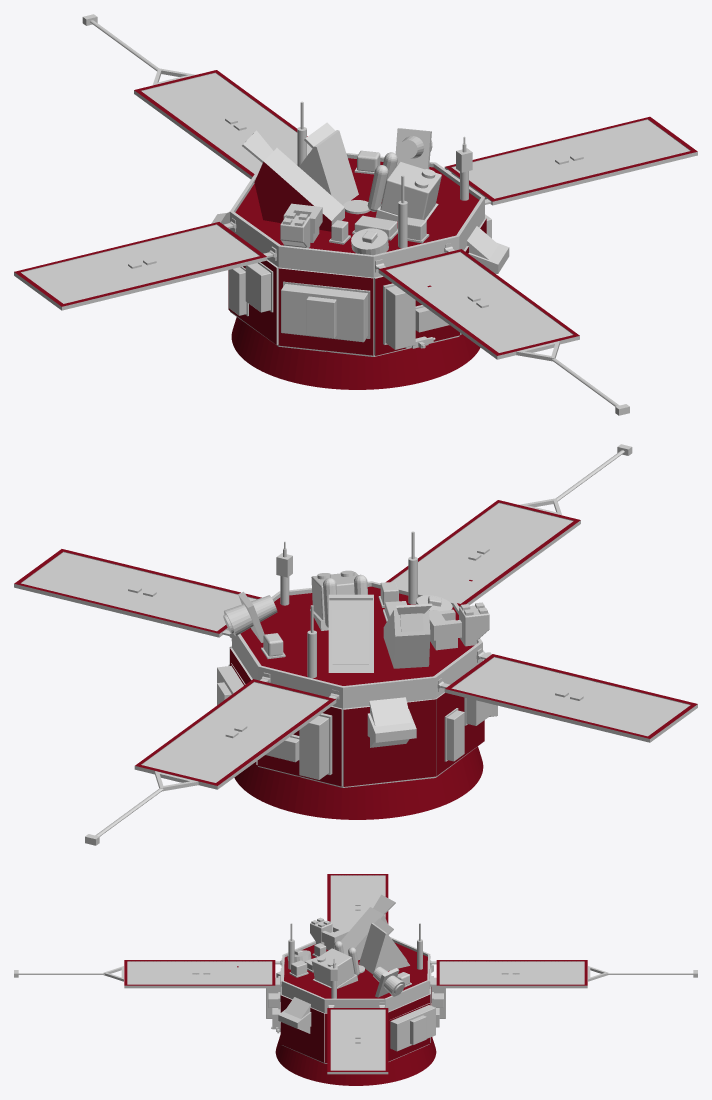
Rendered from satellite2.obj.
3 renders of one model, top to bottom at view 1: azimuth 30°, elevation 25°; view 2: azimuth 150°, elevation 25°; view 3: azimuth 270°, elevation 25°, orthographic. The views are drawn at different scales.
Visible parts, largest first — view 1: Object.1; view 2: Object.1; view 3: Object.1.
Boxes of the visible parts, bbox=[...] form: Object.1: bbox=[14, 14, 697, 415]; Object.1: bbox=[14, 444, 697, 845]; Object.1: bbox=[14, 874, 697, 1085].
Bounding box in the file's own units: 234061 × 70609 × 341707.
